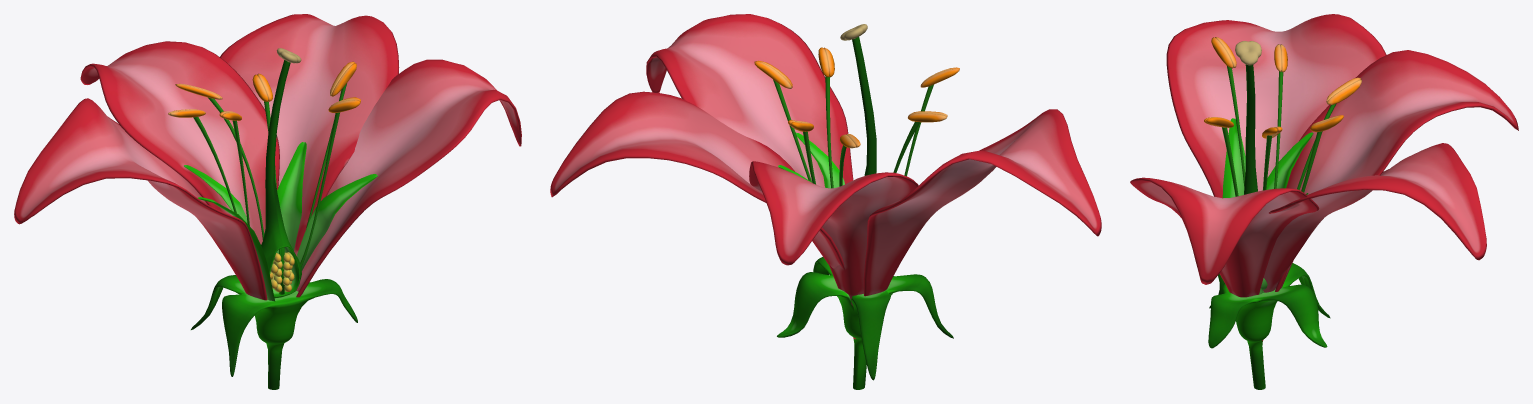
The model's file is flower1.glb.
3 renders of one model, left to right at view 1: azimuth 30°, elevation 25°; view 2: azimuth 150°, elevation 25°; view 3: azimuth 270°, elevation 25°, orthographic. The views are drawn at different scales.
Parts seen in each view (by area): view 1: fiore; view 2: fiore; view 3: fiore.
Part boxes in pixels (x1=…): fiore: x1=14, y1=14, x2=521, y2=389; fiore: x1=550, y1=14, x2=1101, y2=389; fiore: x1=1130, y1=14, x2=1518, y2=389.
Bounding box in the file's own units: 0.8783 × 0.6171 × 0.6255.
Materials: 1 (1 with a texture image).
